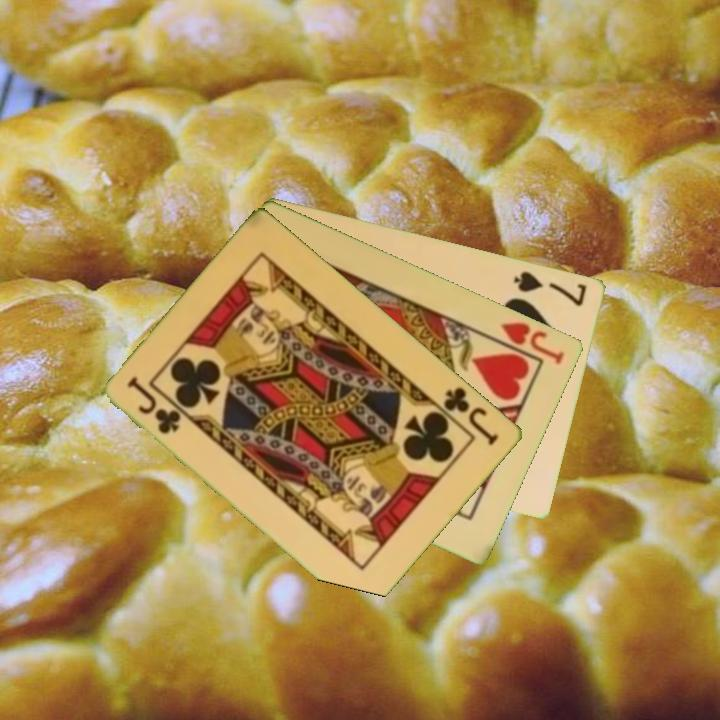7s: (510, 267, 590, 309)
Jc: (440, 383, 502, 449), (124, 373, 185, 437)
Jh: (497, 318, 568, 367)
